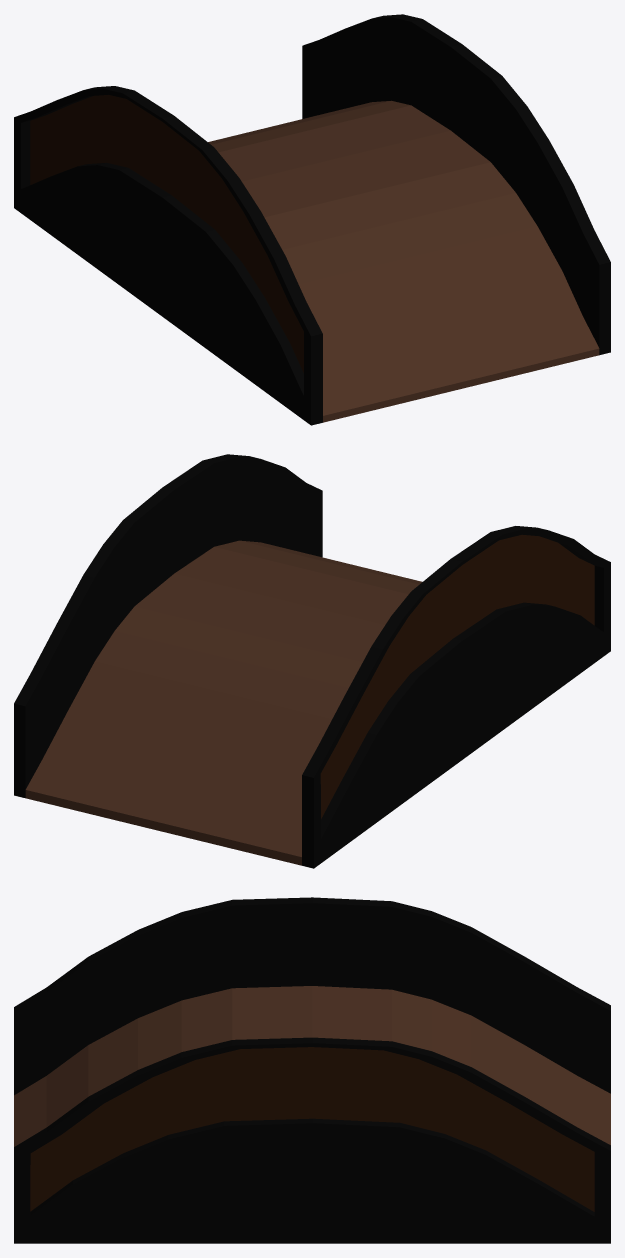
The model's file is Bridge1.fbx.
3 views of the same model, one above another, from view 1: azimuth 30°, elevation 25°; view 2: azimuth 150°, elevation 25°; view 3: azimuth 270°, elevation 25° (orthographic).
Visible parts, largest first — view 1: Cube; view 2: Cube; view 3: Cube.
Part boxes in pixels (box(x1,y1,x2,y2)): Cube: box(14, 14, 610, 425); Cube: box(14, 454, 610, 868); Cube: box(14, 897, 610, 1243).
Bounding box in the file's own units: 158 × 101 × 272.
